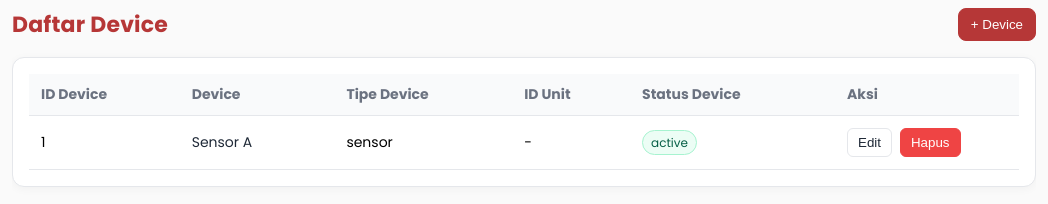
Scenario: DeviceList (admin) › menghapus device ketika DELETE sukses
This screenshot has width=1048, height=204.
Expected: the link "Sensor A" is shown, [192,132,260,152]
Click the button "Hapus" at (930,142), box [900,128,960,157]
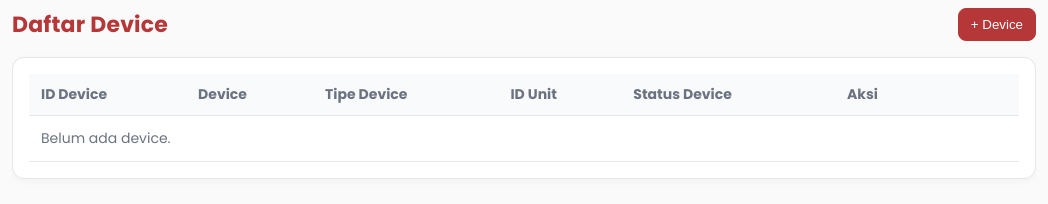
Result: the text "Belum ada device." is shown at [29,116,1019,162]
